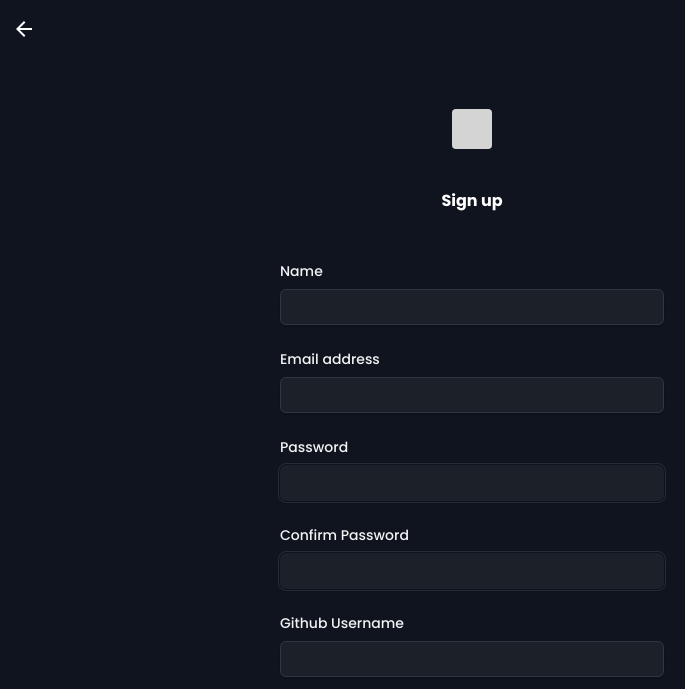
Test: Register Component › should load and display the loading spinner when submitting
The width and height of the screenshot is (685, 689).
Type "Luka" into the field with test id "name-id" at (472, 307), box [280,289,664,325]
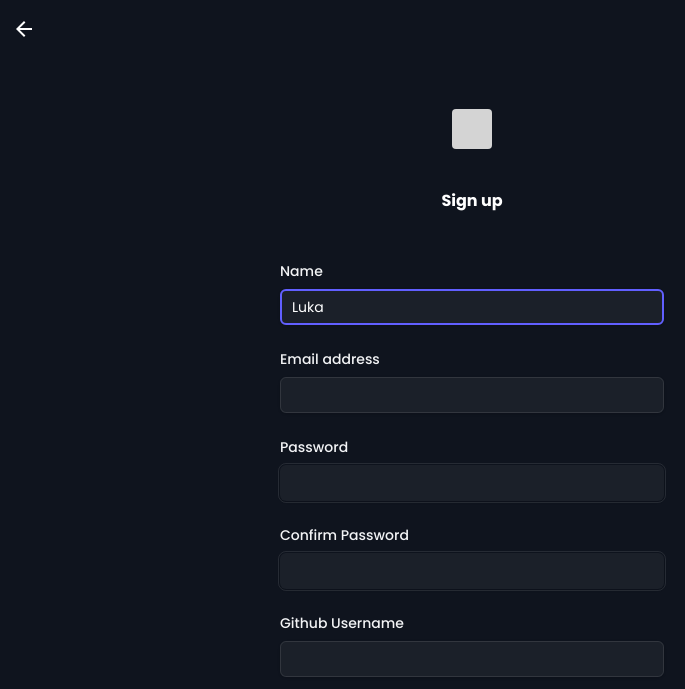
Type "luka@gmail.com" into the field with test id "email-id" at (472, 395), box [280,377,664,413]
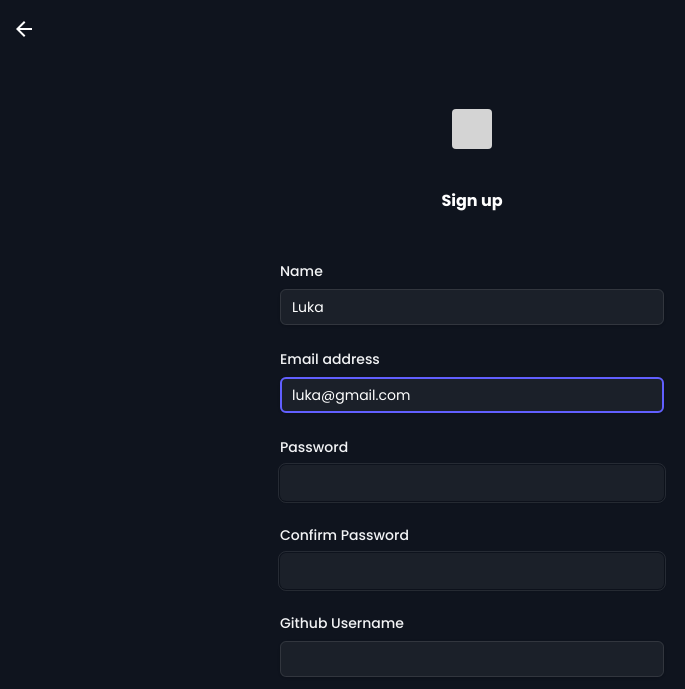
Type "password" into the password field with test id "password-id" at (472, 483), box [280,465,664,501]
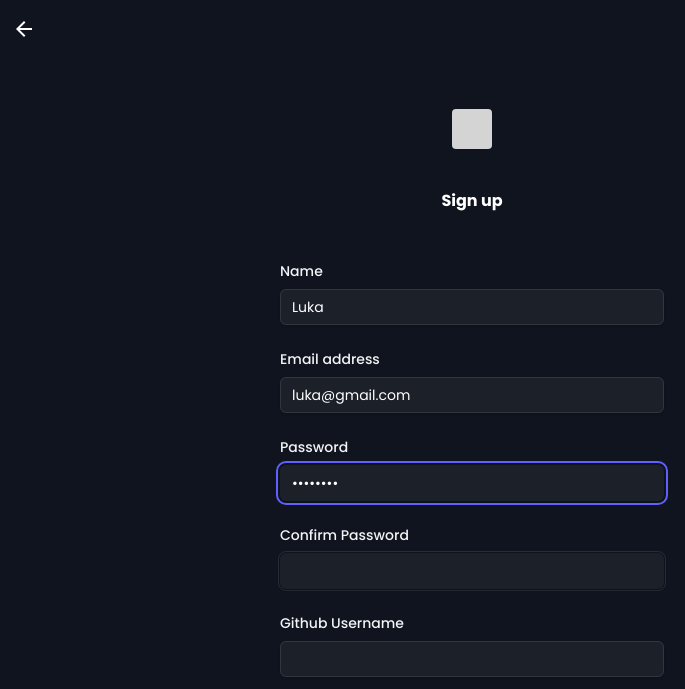
Type "password" into the password field with test id "confirm-password-id" at (472, 571), box [280,553,664,589]
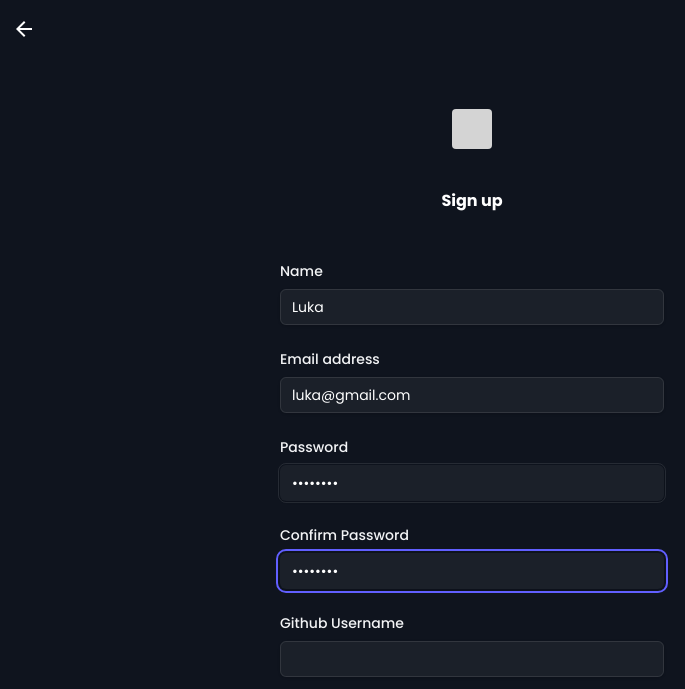
Type "luka-git" into the field with test id "github-username-id" at (472, 659), box [280,641,664,677]
(page scrolled)
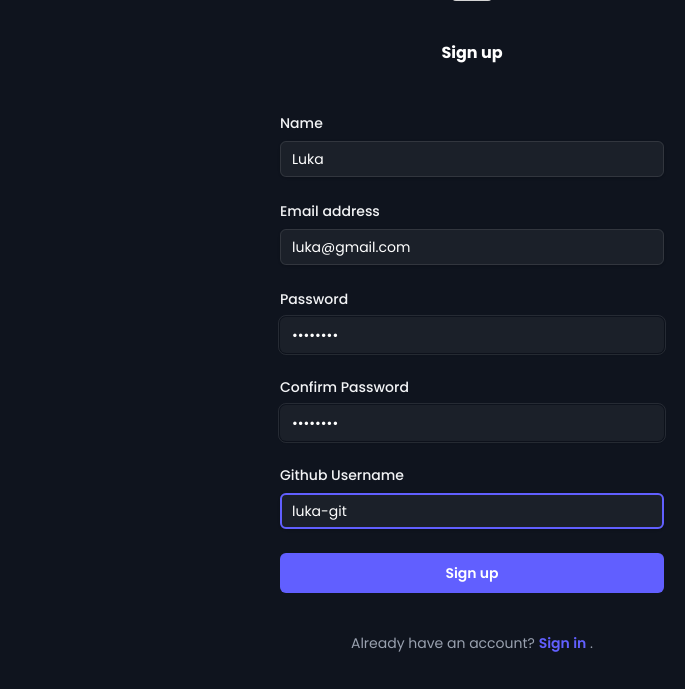
Click the button with test id "sign-up-button" at (472, 573), box [280,553,664,593]
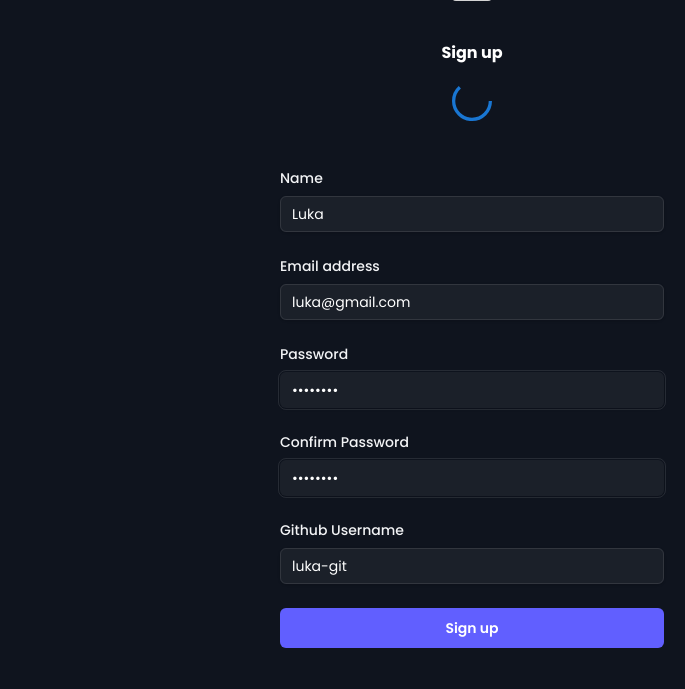
expect the progress indicator is shown: met, box [452,81,492,121]
